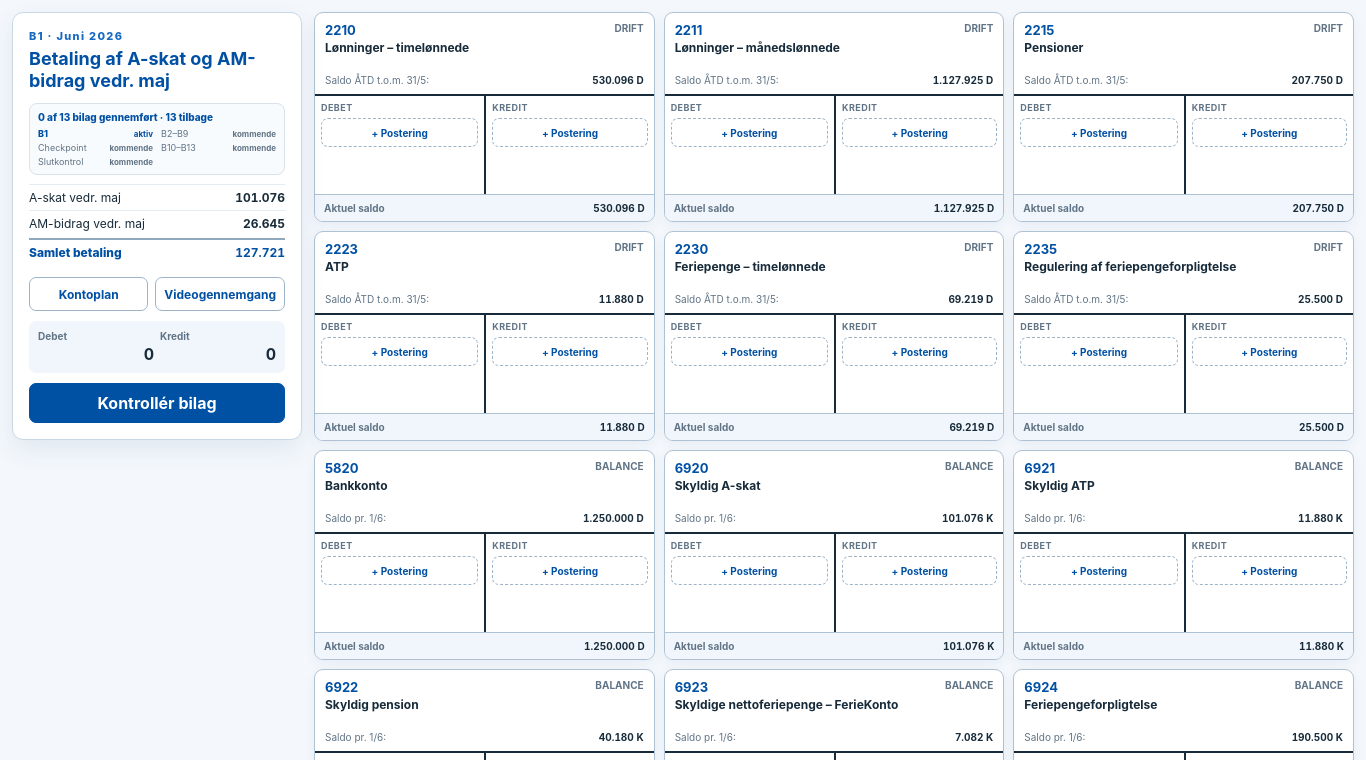
J3B Niveau 2 workspace › afviser elevens egen forkerte konto uden at udpege untouched facitkonti
The width and height of the screenshot is (1366, 760).
Click the button with aria-label "Tilføj postering på 2210 Debet".
click(400, 132)  # box left=321, top=118, right=478, bottom=147
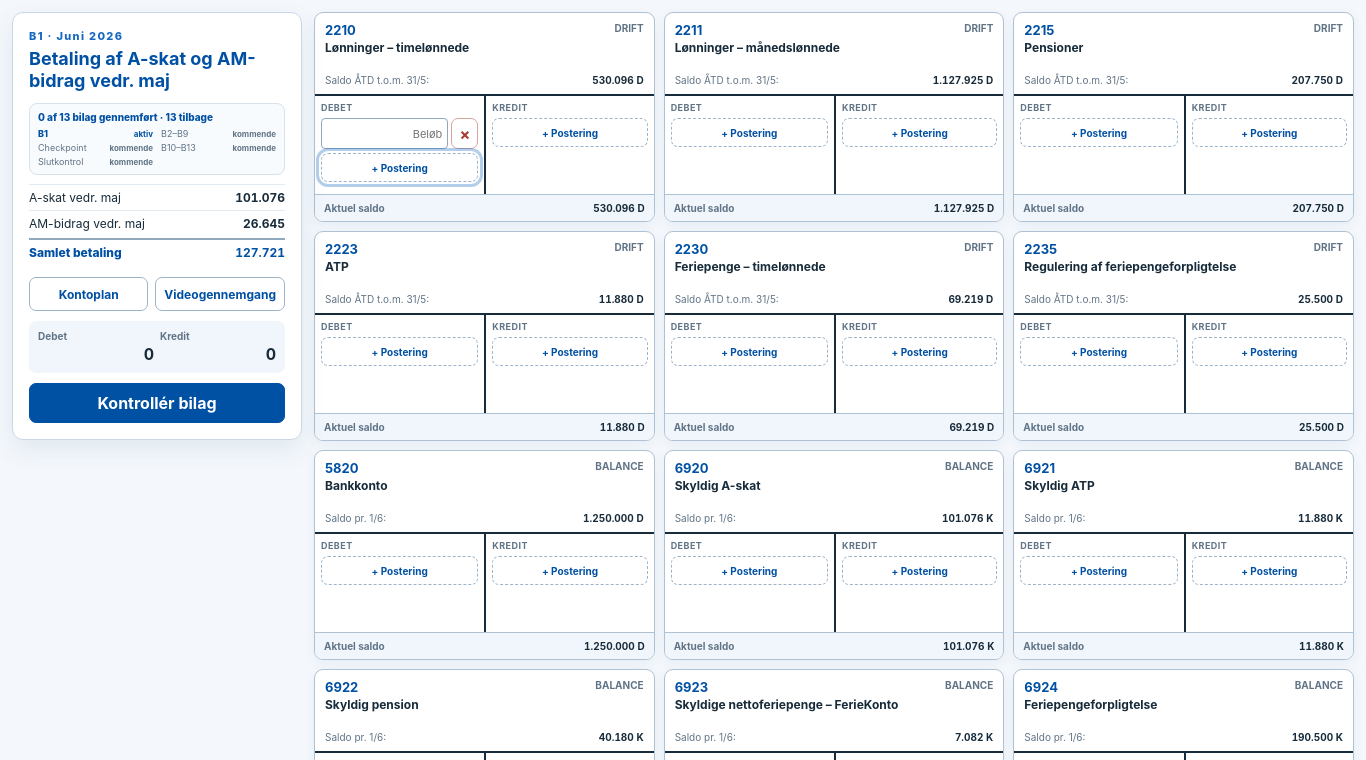
Type "100" into the field named "Beløb på 2210 Debet".
click(385, 134); type("100")  # box left=321, top=118, right=448, bottom=149
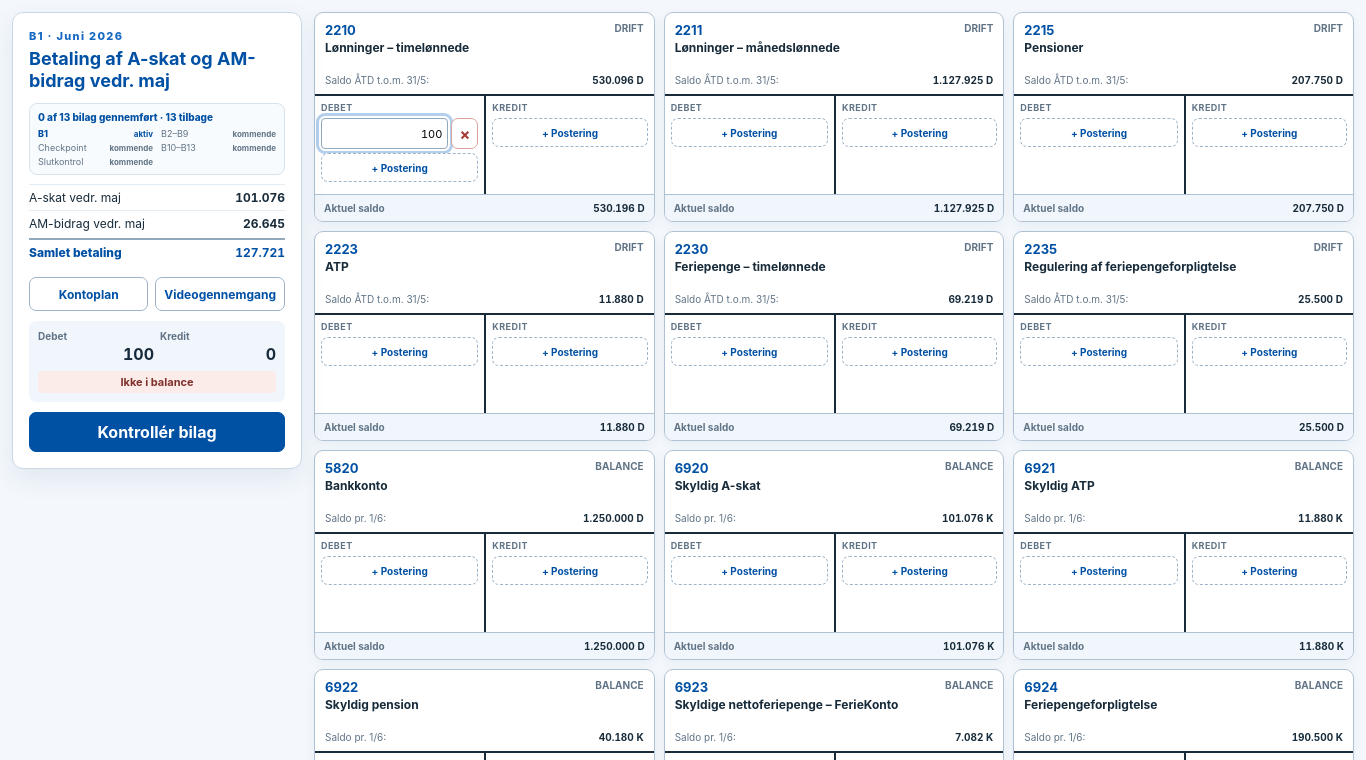
Click the button "Kontrollér bilag".
click(157, 432)  # box left=29, top=412, right=285, bottom=452
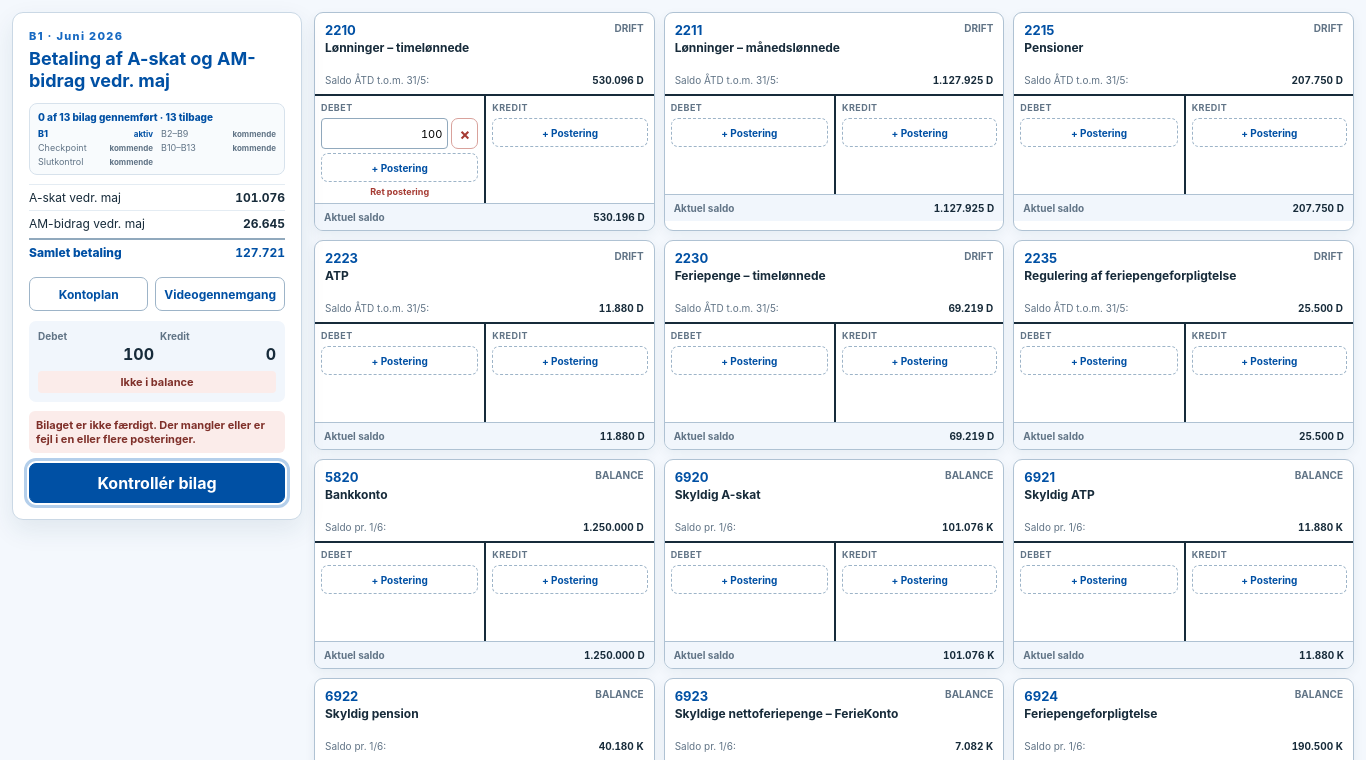
Now the text "Ret postering" is shown, box left=370, top=186, right=429, bottom=197
